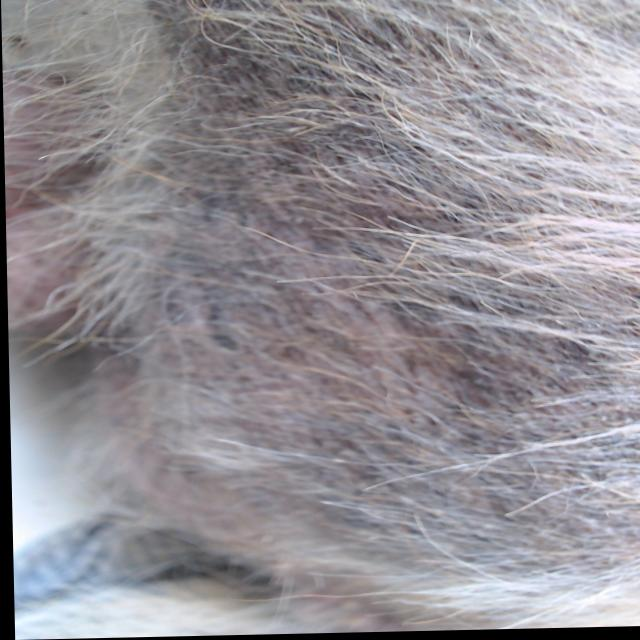demodicosis: (138, 127, 577, 499)
